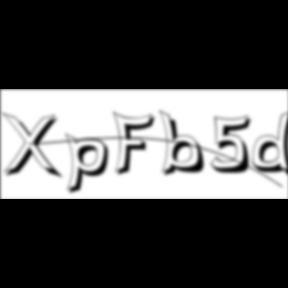5: (210, 114, 258, 176)
F: (113, 110, 161, 178)
X: (1, 112, 65, 182)
b: (159, 109, 212, 179)
p: (65, 132, 115, 198)
